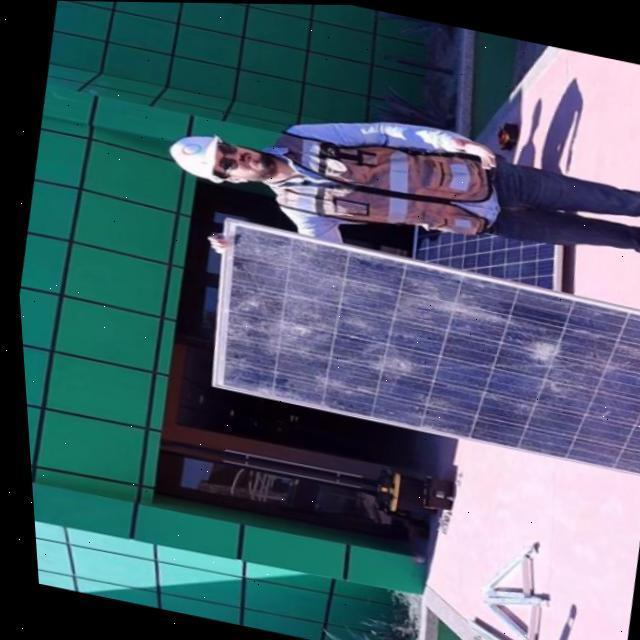Normal Solar Panel: (407, 214, 567, 290)
